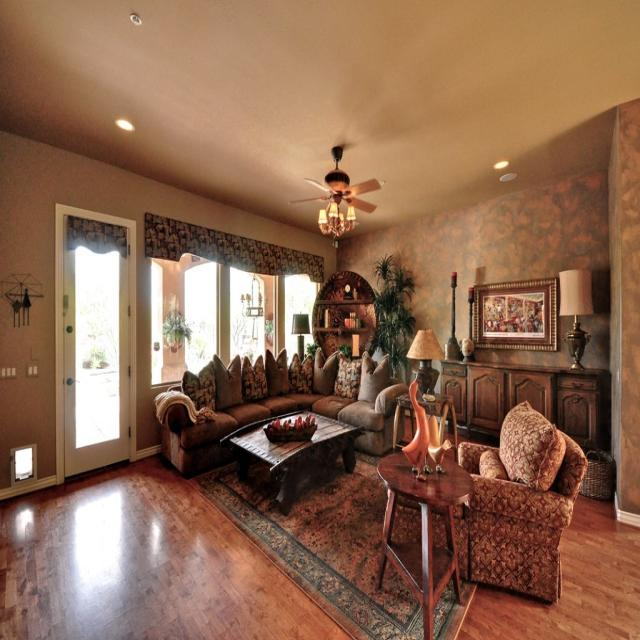Bulb: (286, 145, 377, 250)
